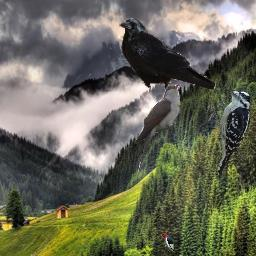Crow: (118, 18, 216, 89)
Cuckoo: (134, 84, 181, 173)
Woodpecker: (208, 88, 256, 178), (159, 233, 174, 252)
